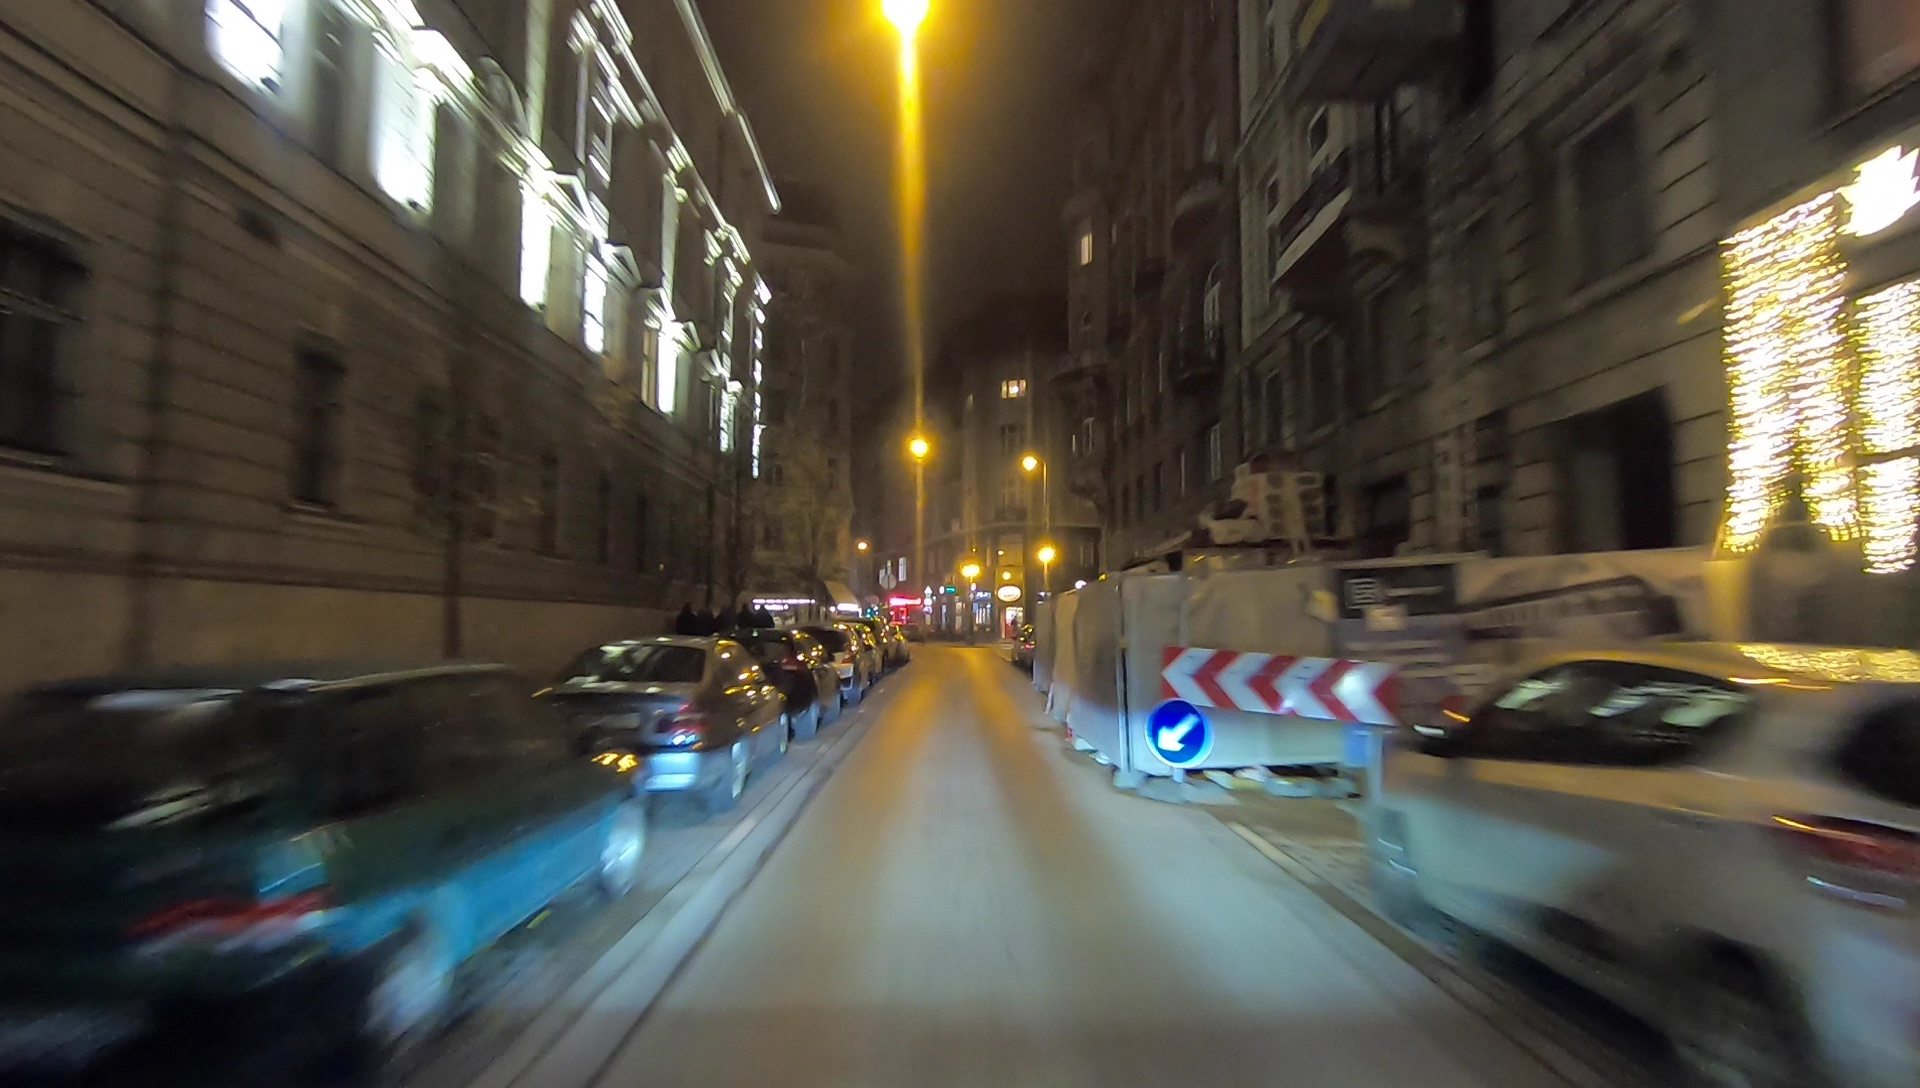person: (756, 602, 771, 667), (697, 602, 712, 667), (676, 604, 691, 667), (719, 600, 730, 674), (741, 602, 754, 665)
